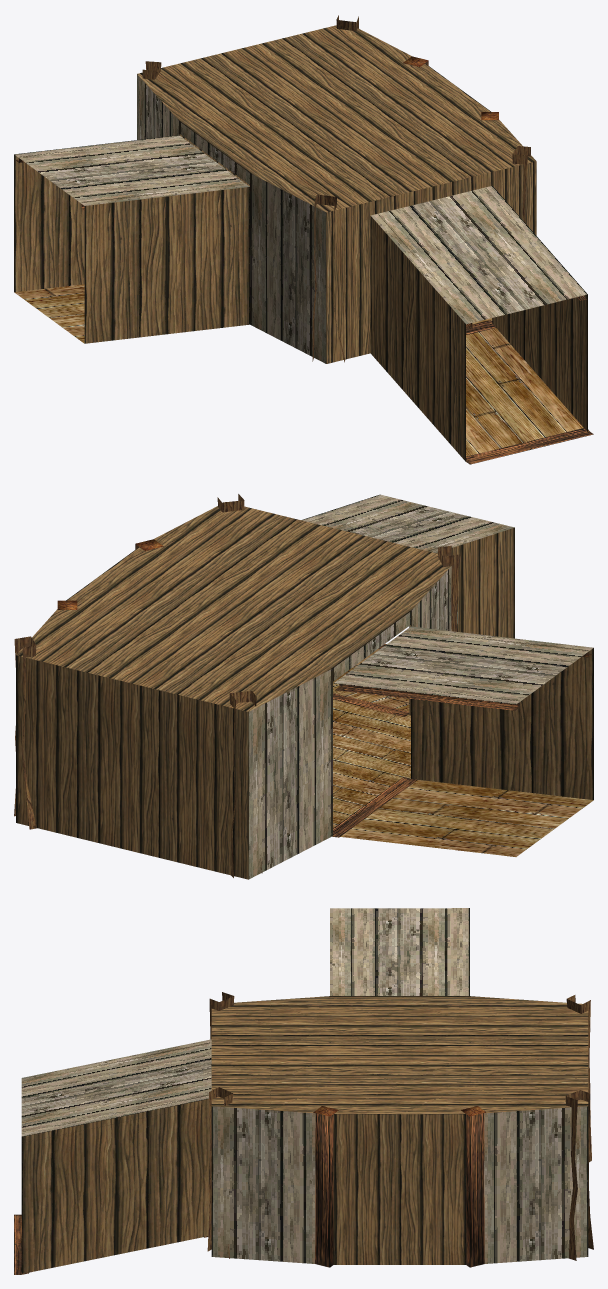
The model's file is LAKETOWN_WAREHOUSE2_PS_WH2_TRANHALL5534__GX.fbx.
3 views of the same model, one above another, from view 1: azimuth 30°, elevation 25°; view 2: azimuth 150°, elevation 25°; view 3: azimuth 270°, elevation 25° (orthographic). The views are drawn at different scales.
Visible parts, largest first — view 1: LAKETOWN_WAREHOUSE2_PS_WH2_TRANHALL5534__GX; view 2: LAKETOWN_WAREHOUSE2_PS_WH2_TRANHALL5534__GX; view 3: LAKETOWN_WAREHOUSE2_PS_WH2_TRANHALL5534__GX.
Boxes of the visible parts, x1,y1,x2,y2 form: LAKETOWN_WAREHOUSE2_PS_WH2_TRANHALL5534__GX: [14, 15, 593, 464]; LAKETOWN_WAREHOUSE2_PS_WH2_TRANHALL5534__GX: [14, 494, 593, 879]; LAKETOWN_WAREHOUSE2_PS_WH2_TRANHALL5534__GX: [14, 908, 593, 1274].
Bounding box in the file's own units: 102097 × 46970 × 124349.
8 materials, 8 textured.
